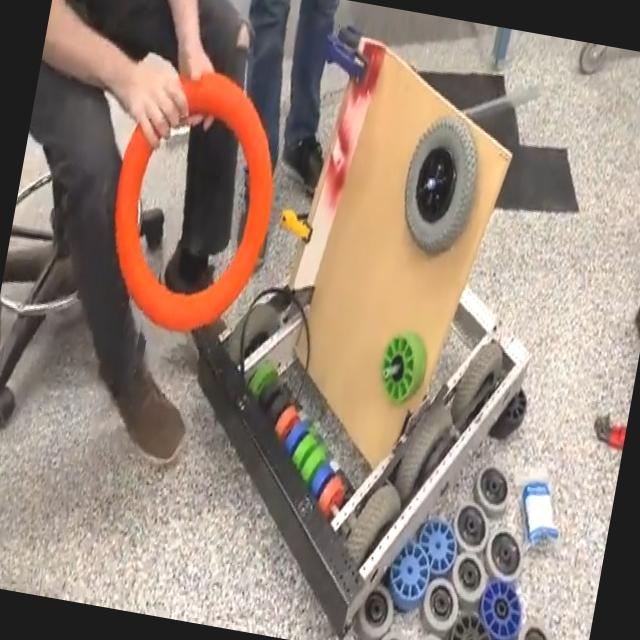note: (91, 54, 295, 348)
